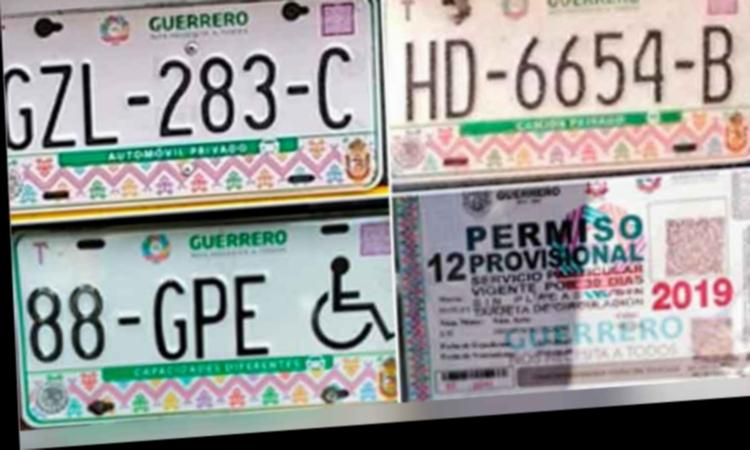License_Plate: (16, 201, 402, 439), (5, 0, 389, 211), (370, 0, 750, 193)
